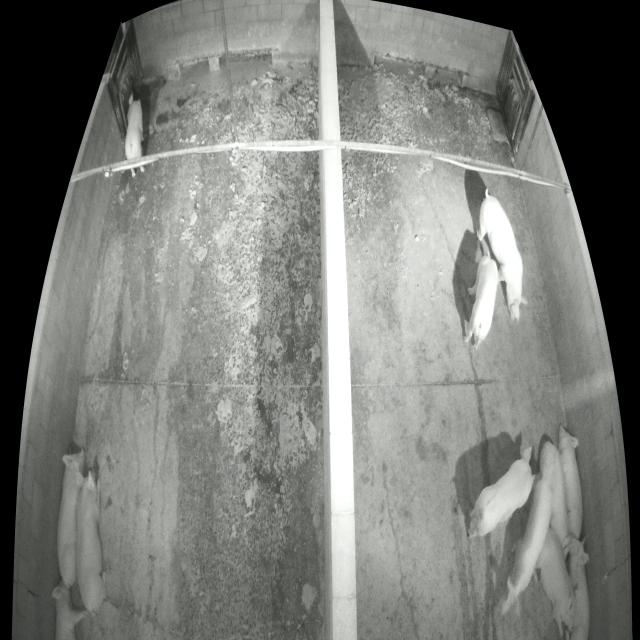pig: (500, 481, 553, 622), (467, 451, 539, 541), (478, 197, 529, 322), (533, 527, 577, 639), (74, 471, 106, 612), (56, 449, 85, 588), (464, 244, 498, 351), (538, 440, 569, 544), (563, 533, 591, 639), (559, 424, 584, 539), (51, 582, 87, 639), (124, 93, 145, 178)
